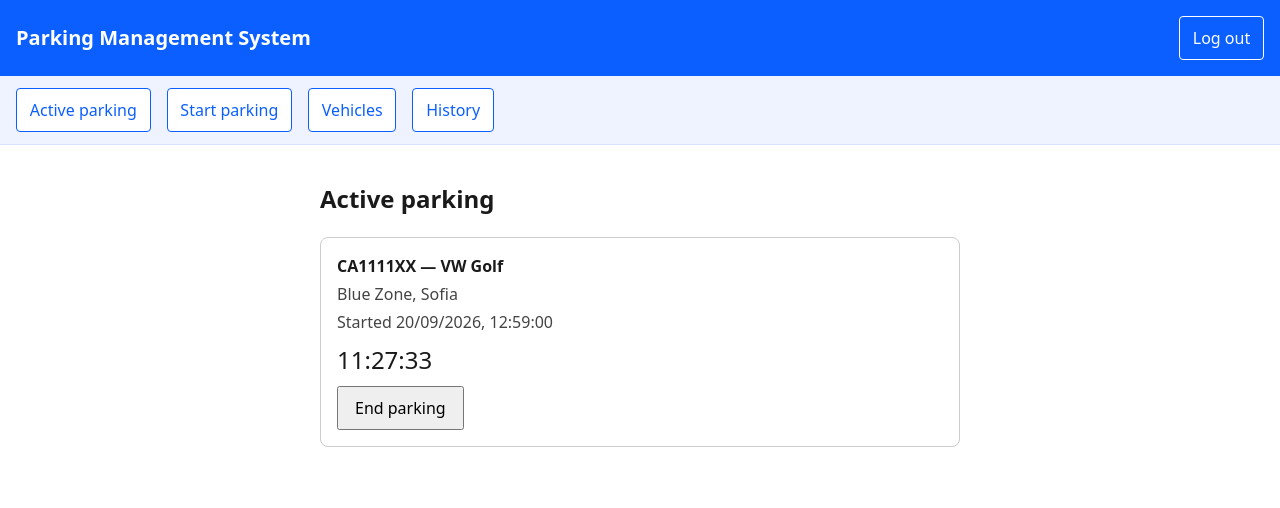
Test: ActivePage › tapping End with a mocked 200 renders the end time and the returned amount
Click the button "End parking" at {"x": 400, "y": 408}, box 337,386 -> 464,430
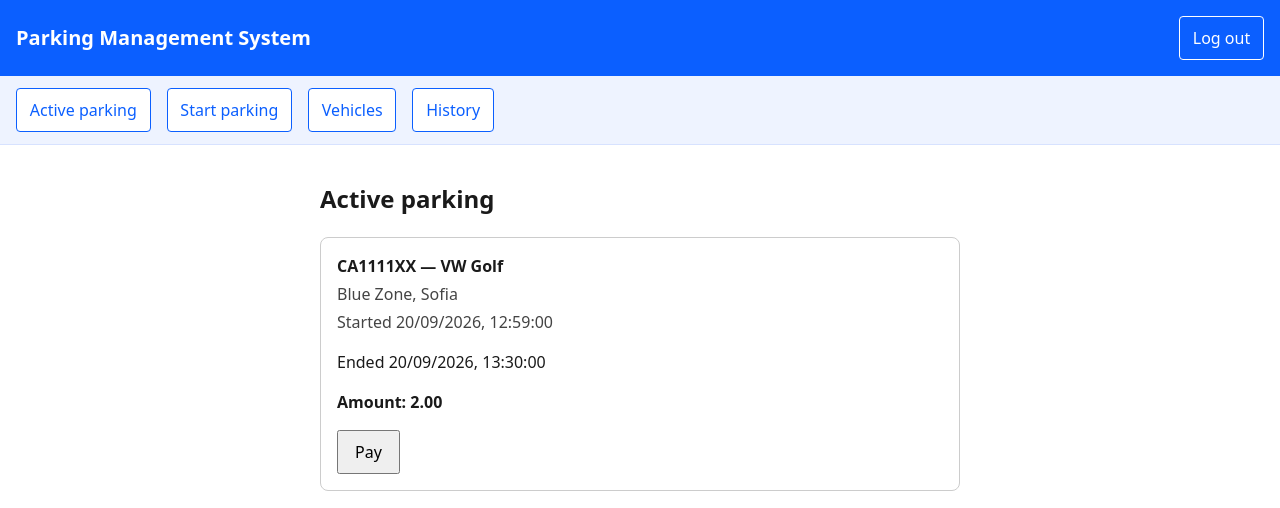
Now the button "End parking" is gone
Now the button "Pay" is shown, box 337,430 -> 400,474
Now the text "Ended 20/09/2026, 13:30:00" is shown, box 337,351 -> 546,373
